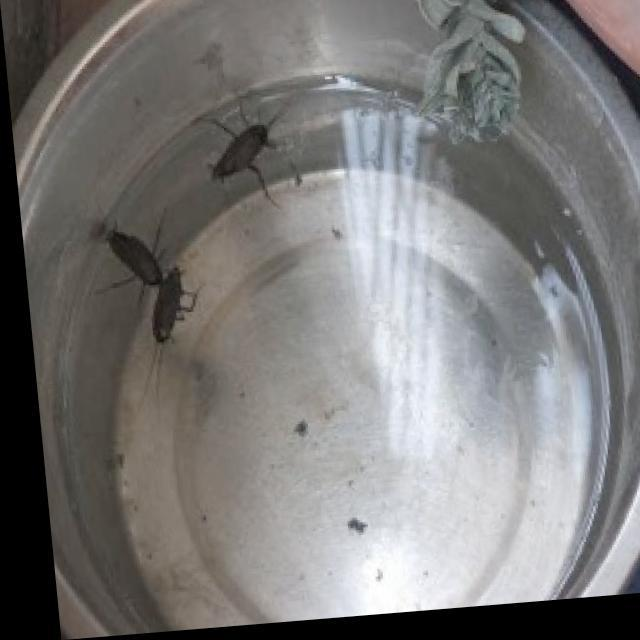cockroach: (94, 217, 205, 349)
